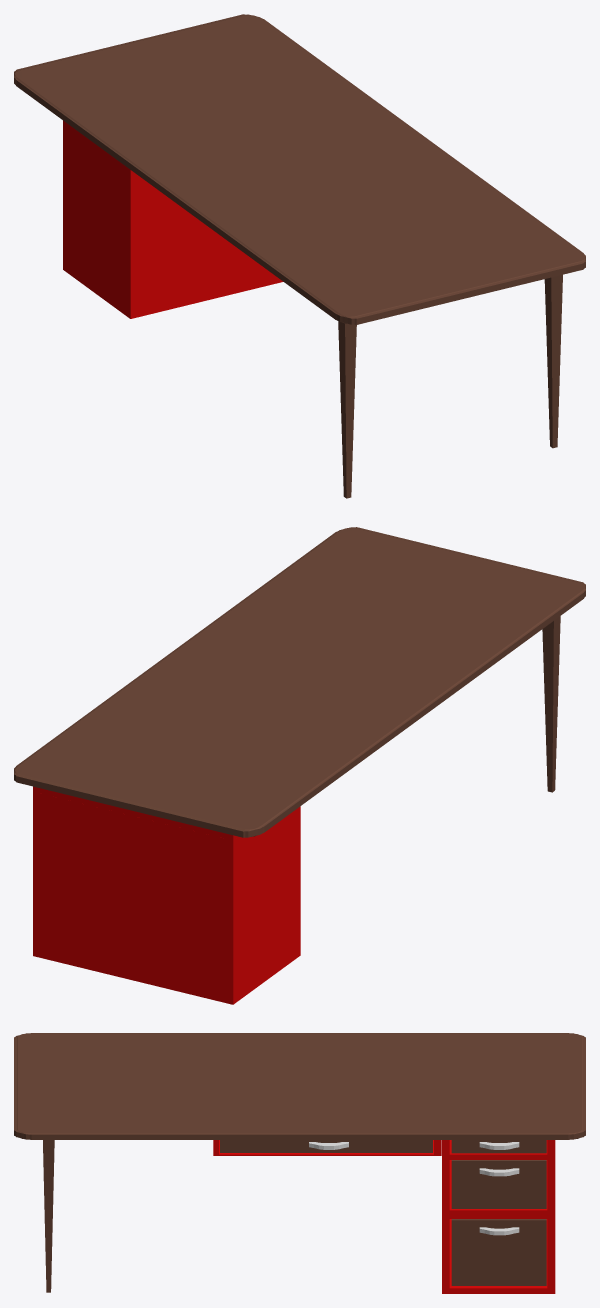
File: Table.fbx
The picture shows the model from 3 angles, top to bottom: view 1: azimuth 30°, elevation 25°; view 2: azimuth 150°, elevation 25°; view 3: azimuth 270°, elevation 25°; orthographic projection. The views are drawn at different scales.
Parts seen in each view (by area): view 1: Table Top, Side Drawer2 Socket, Side Drawer1 Socket, Leg Back, Leg Front; view 2: Table Top, Side Drawer2 Socket, Side Drawer1 Socket, Leg Back, Side Drawer Socket; view 3: Table Top, Side Drawer2, Side Drawer1, Side Drawer2 Socket, Lap Drawer, Side Drawer1 Socket, Leg Front, Side Drawer, Lap Drawer Socket, Side Drawer Socket.
Boxes of the visible parts, box(x1,y1,x2,y2) form: Table Top: box(14, 14, 585, 324); Side Drawer2 Socket: box(63, 174, 283, 318); Side Drawer1 Socket: box(63, 120, 184, 224); Leg Back: box(338, 321, 356, 498); Leg Front: box(544, 274, 562, 448); Table Top: box(14, 527, 585, 837); Side Drawer2 Socket: box(33, 861, 300, 1004); Side Drawer1 Socket: box(33, 792, 300, 909); Leg Back: box(542, 616, 560, 792); Side Drawer Socket: box(33, 786, 237, 840); Table Top: box(14, 1033, 585, 1139); Side Drawer2: box(451, 1219, 546, 1285); Side Drawer1: box(451, 1160, 546, 1208); Side Drawer2 Socket: box(442, 1213, 555, 1293); Lap Drawer: box(220, 1140, 432, 1152); Side Drawer1 Socket: box(442, 1156, 555, 1214); Leg Front: box(43, 1140, 54, 1292); Side Drawer: box(451, 1140, 546, 1153); Lap Drawer Socket: box(213, 1140, 441, 1155); Side Drawer Socket: box(442, 1140, 555, 1155).
Size of the model in its own units: 427 by 322 by 1010.
